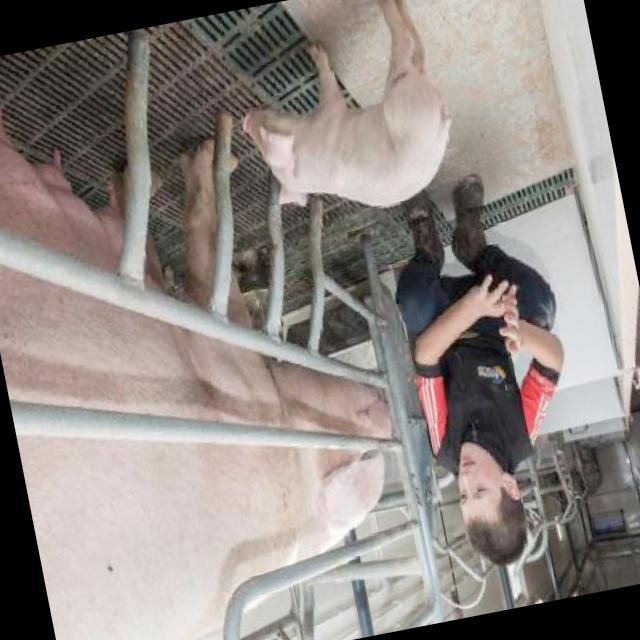pig: (17, 436, 384, 640), (0, 266, 391, 437), (244, 0, 452, 206), (0, 114, 123, 271), (182, 141, 216, 305), (148, 244, 163, 288)
